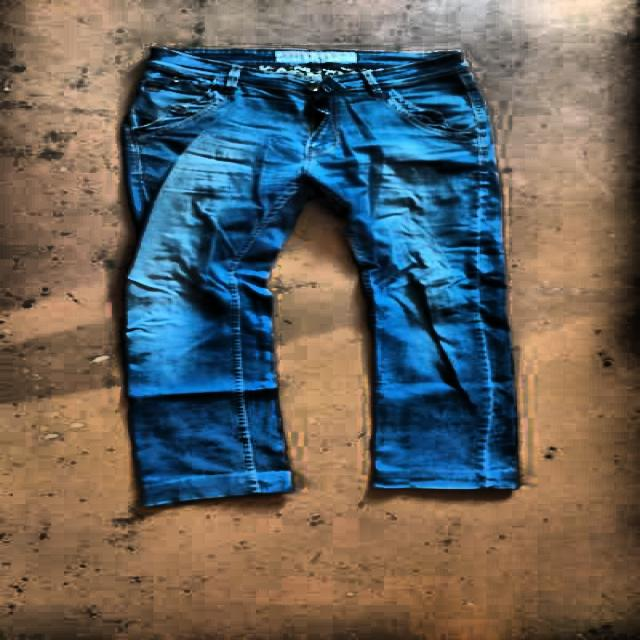clothes: (108, 46, 520, 510)
